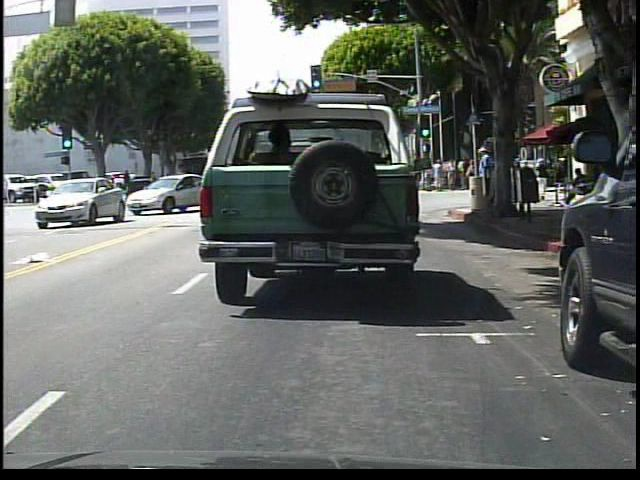person: (563, 165, 596, 208), (504, 152, 522, 218), (479, 145, 495, 206), (467, 157, 480, 203), (537, 157, 550, 200), (526, 165, 539, 203), (434, 158, 445, 192), (447, 158, 458, 190), (423, 164, 434, 192), (462, 157, 471, 190)
